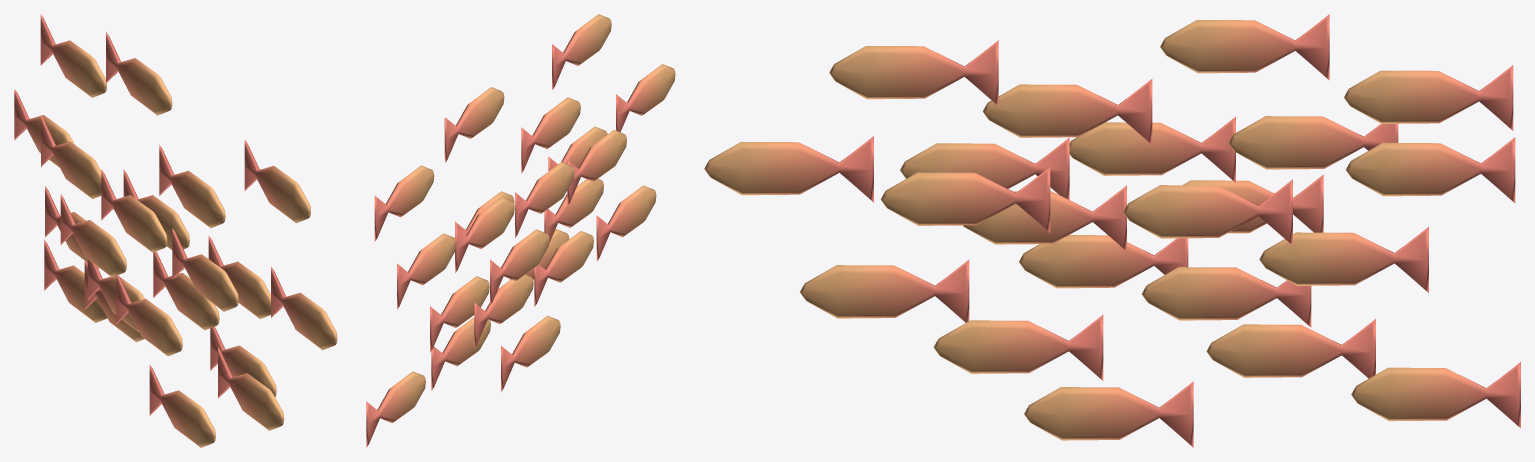
File: fish3.fbx
3 renders of one model, left to right at view 1: azimuth 30°, elevation 25°; view 2: azimuth 150°, elevation 25°; view 3: azimuth 270°, elevation 25°, orthographic. The views are drawn at different scales.
Visible parts, largest first — view 1: obj3; view 2: obj3; view 3: obj3.
Part boxes in pixels (x1,y1,x2,y2): obj3: (14, 14, 337, 447); obj3: (366, 14, 675, 447); obj3: (704, 14, 1520, 447).
Bounding box in the file's own units: 11.33 × 51.42 × 86.51.
Materials: 1 (1 with a texture image).
